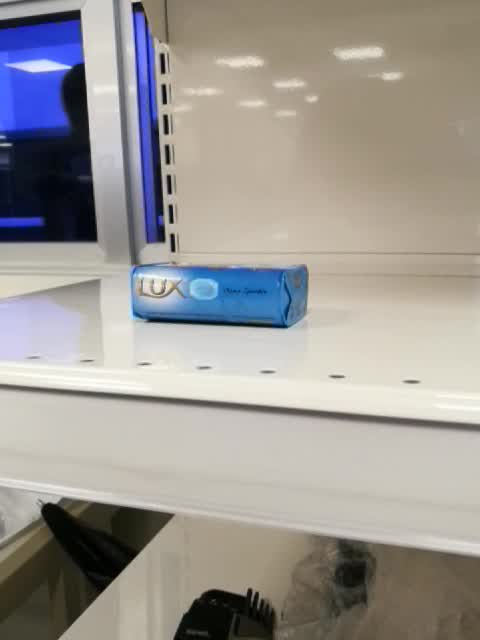soap: (130, 262, 310, 329)
